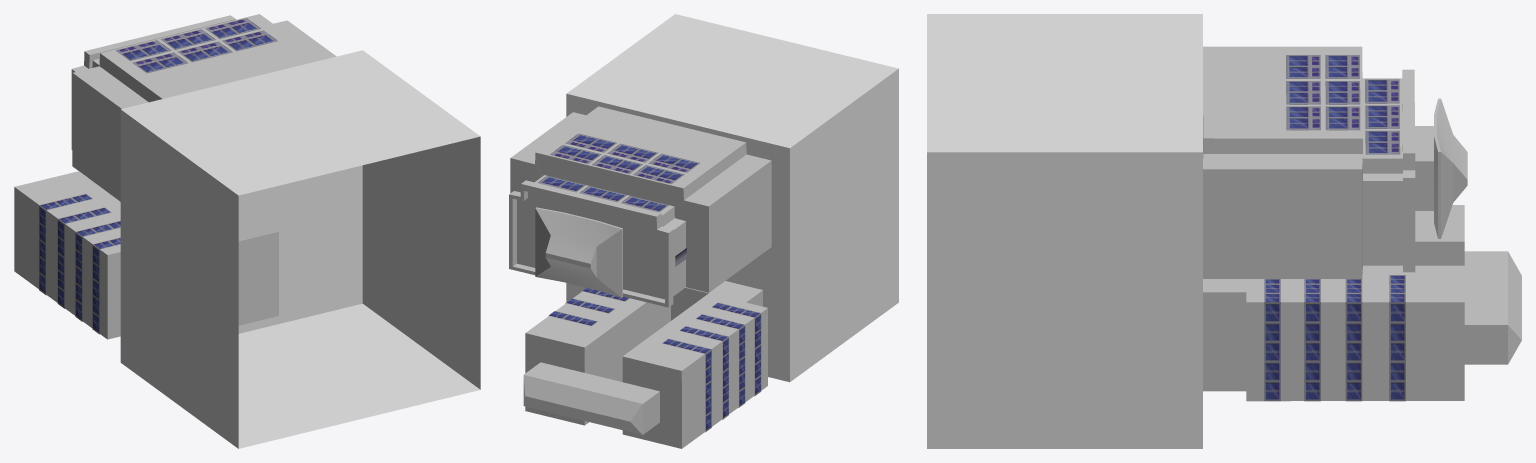
The model's file is block_mixed_02.FBX.
3 renders of one model, left to right at view 1: azimuth 30°, elevation 25°; view 2: azimuth 150°, elevation 25°; view 3: azimuth 270°, elevation 25°, orthographic. The views are drawn at different scales.
Parts seen in each view (by area): view 1: Plane002, building_neonepali_6s, building_commercial_7s; view 2: Plane002, building_neonepali_6s, building_commercial_7s; view 3: Plane002, building_neonepali_6s, building_commercial_7s.
Part boxes in pixels (box(x1,y1,x2,y2)): Plane002: box(120, 50, 480, 448); building_neonepali_6s: box(71, 14, 336, 201); building_commercial_7s: box(14, 171, 278, 339); Plane002: box(566, 14, 898, 382); building_neonepali_6s: box(509, 106, 771, 307); building_commercial_7s: box(523, 281, 767, 448); Plane002: box(927, 14, 1202, 448); building_neonepali_6s: box(1203, 46, 1467, 278); building_commercial_7s: box(1203, 205, 1521, 401).
Bounding box in the file's own units: 30 × 30 × 54.52.
